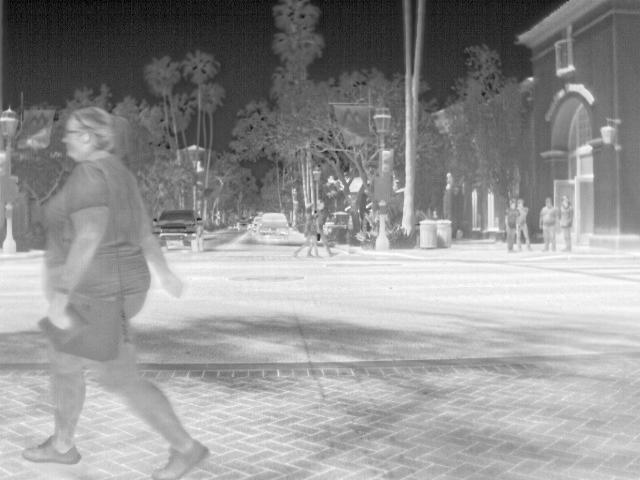car: (153, 210, 205, 253), (258, 213, 290, 239)
person: (21, 102, 209, 476), (292, 208, 319, 258), (309, 213, 336, 254), (555, 193, 574, 251), (514, 199, 535, 251), (539, 196, 558, 253), (504, 198, 521, 252)
